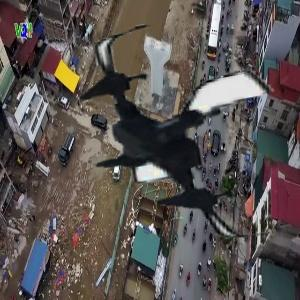drone: (61, 20, 292, 251)
